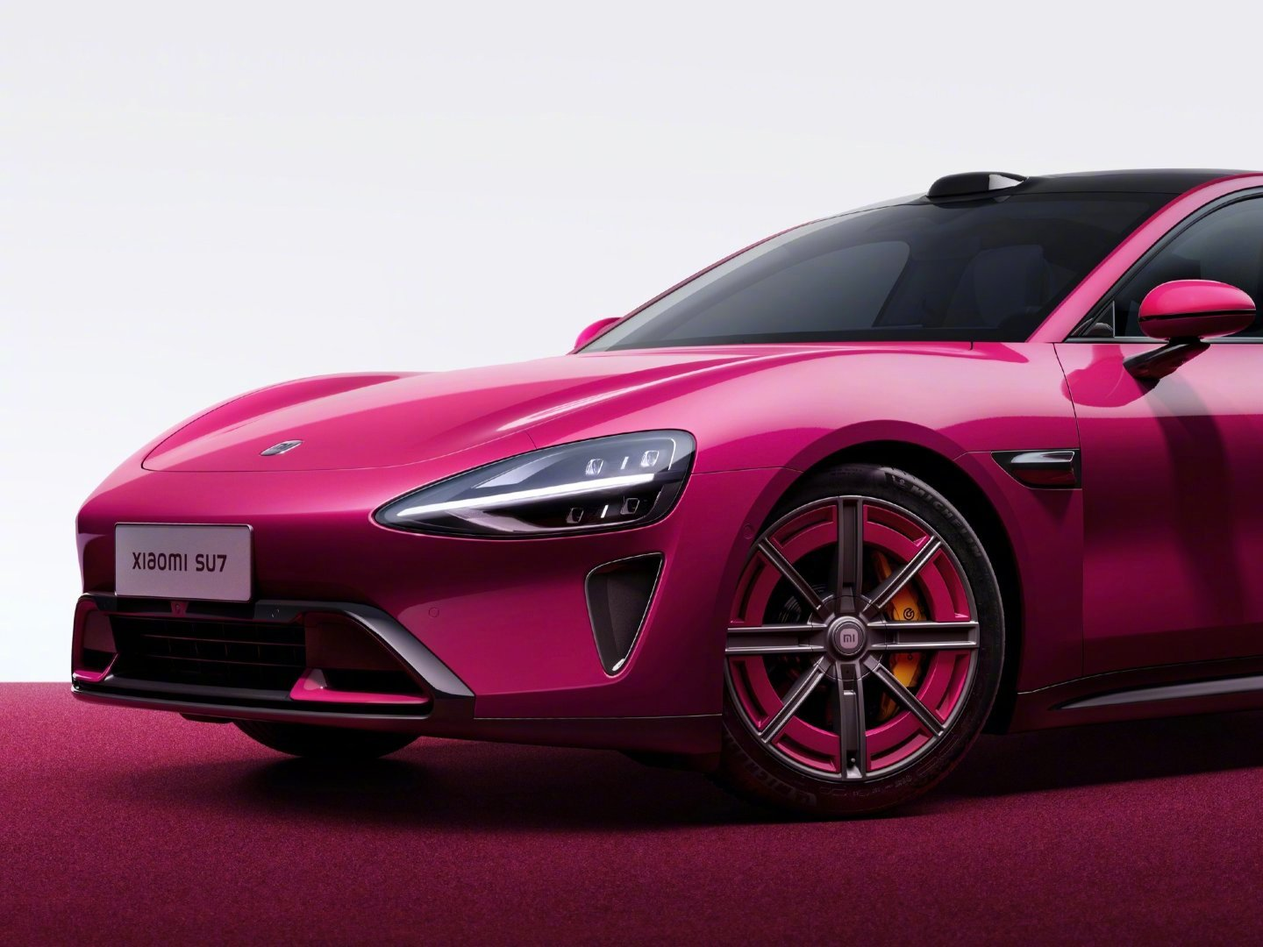su7: (74, 160, 1263, 822)
